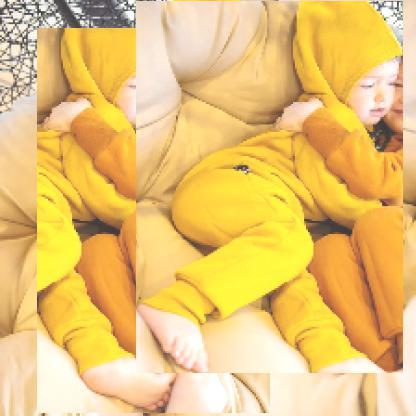child: (137, 2, 405, 375), (38, 29, 272, 415)
